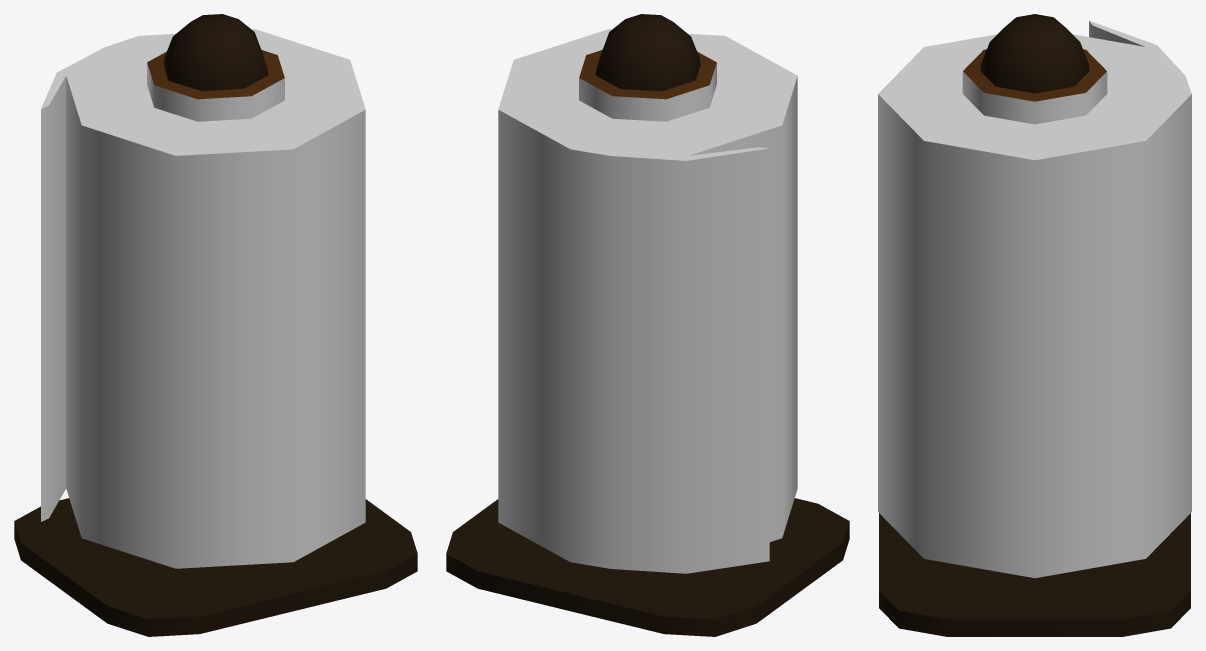
Rendered from Rollo_Papel.fbx.
3 renders of one model, left to right at view 1: azimuth 30°, elevation 25°; view 2: azimuth 150°, elevation 25°; view 3: azimuth 270°, elevation 25°, orthographic.
Parts seen in each view (by area): view 1: Rollo_Papel; view 2: Rollo_Papel; view 3: Rollo_Papel.
Part boxes in pixels (left/top/right/bottom): Rollo_Papel: left=14, top=14, right=417, bottom=636; Rollo_Papel: left=446, top=14, right=849, bottom=636; Rollo_Papel: left=878, top=14, right=1191, bottom=636.
Bounding box in the file's own units: 0.3626 × 0.6095 × 0.3208.
